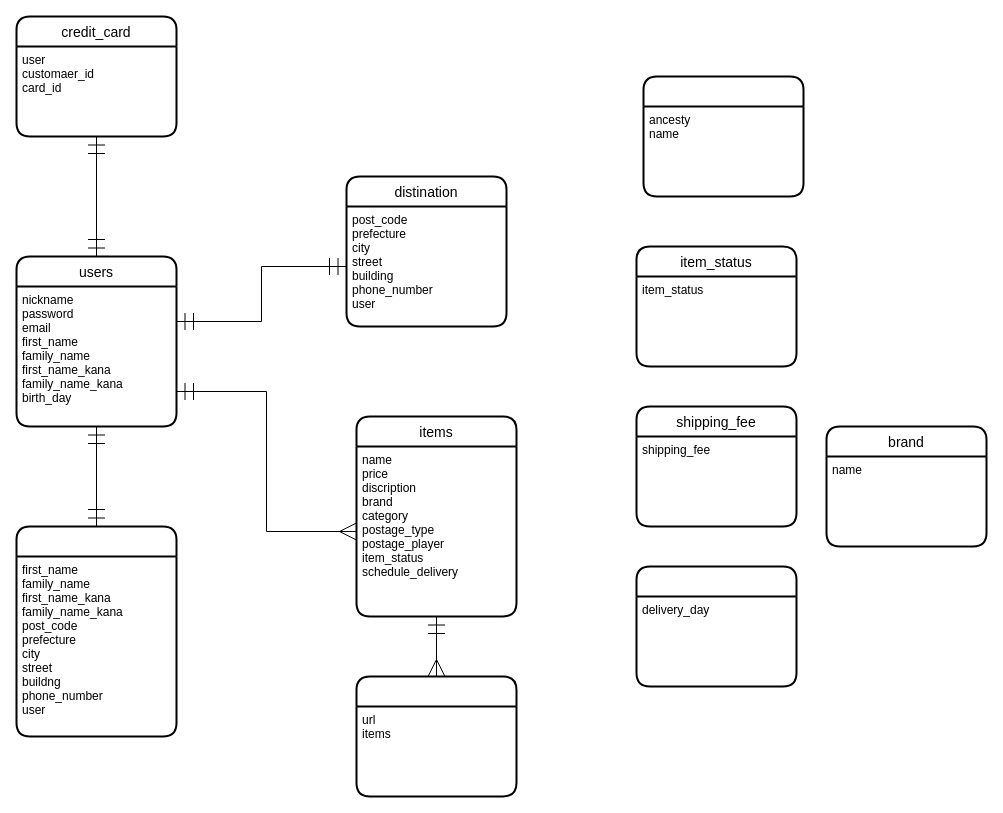
The diagram is 1003 pixels wide and 813 high, and some of its shapes have lost their labels. Here are the shapes that lost their labels. From the top down, the box of each, then its label:
(642, 75, 804, 197): category
(15, 525, 177, 737): address
(635, 565, 797, 687): schedule_delivery
(355, 675, 517, 797): item_images
